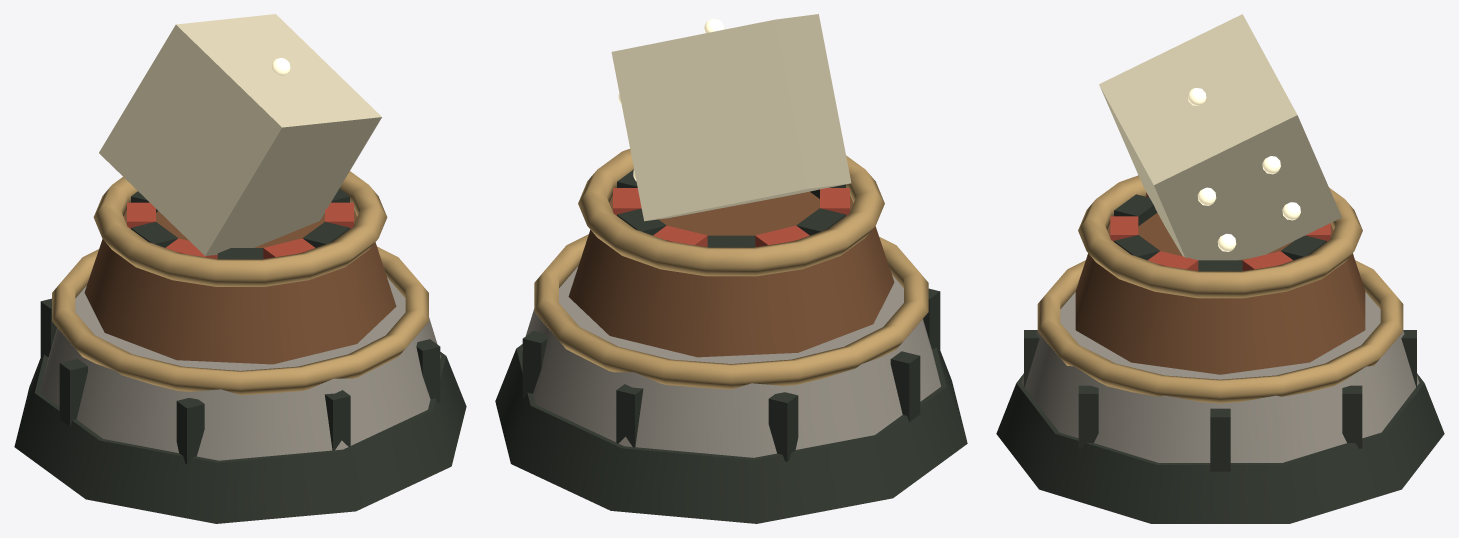
Rendered from tower_gamble.glb.
3 views of the same model, side by side, from view 1: azimuth 30°, elevation 25°; view 2: azimuth 150°, elevation 25°; view 3: azimuth 270°, elevation 25° (orthographic). The views are drawn at different scales.
Visible parts, largest first — view 1: die_25, foot_0, stone_1, table_11, rim_2, roulette_rim_12, mortar_6, mortar_7, mortar_5, mortar_4, mortar_8, pocket_18 (+5 smaller); view 2: die_25, foot_0, table_11, stone_1, rim_2, roulette_rim_12, mortar_8, mortar_7, mortar_9, mortar_10, mortar_6, pocket_22 (+6 smaller); view 3: die_25, foot_0, stone_1, table_11, rim_2, roulette_rim_12, mortar_3, mortar_4, mortar_10, pocket_20, pocket_19, pocket_18 (+6 smaller).
Part boxes in pixels (box(x1,y1,x2,y2)): die_25: box(99, 14, 381, 255); foot_0: box(14, 352, 466, 523); stone_1: box(40, 277, 440, 460); table_11: box(84, 210, 396, 364); rim_2: box(52, 246, 428, 395); roulette_rim_12: box(93, 171, 387, 286); mortar_6: box(176, 398, 204, 464); mortar_7: box(59, 358, 87, 426); mortar_5: box(324, 390, 350, 450); mortar_4: box(416, 339, 440, 403); mortar_8: box(40, 298, 57, 358); pocket_18: box(302, 221, 349, 247); die_25: box(611, 14, 851, 221); foot_0: box(495, 344, 967, 523); table_11: box(568, 191, 894, 357); stone_1: box(522, 266, 940, 457); rim_2: box(534, 234, 928, 389); roulette_rim_12: box(578, 149, 884, 276); mortar_8: box(768, 392, 798, 461); mortar_7: box(890, 351, 920, 422); mortar_9: box(616, 384, 643, 447); mortar_10: box(522, 331, 547, 397); mortar_6: box(923, 288, 940, 350); pocket_22: box(796, 208, 845, 235); die_25: box(1099, 14, 1341, 260); foot_0: box(996, 373, 1444, 523); stone_1: box(1021, 292, 1419, 462); table_11: box(1075, 212, 1365, 374); rim_2: box(1037, 260, 1403, 403); roulette_rim_12: box(1078, 175, 1362, 298); mortar_3: box(1210, 408, 1230, 471); mortar_4: box(1078, 385, 1098, 448); mortar_10: box(1342, 385, 1362, 448); pocket_20: box(1114, 194, 1157, 226); pocket_19: box(1110, 216, 1138, 241); pocket_18: box(1114, 235, 1159, 260).
Size of the model in its own units: 0.5326 by 0.5439 by 0.56.
